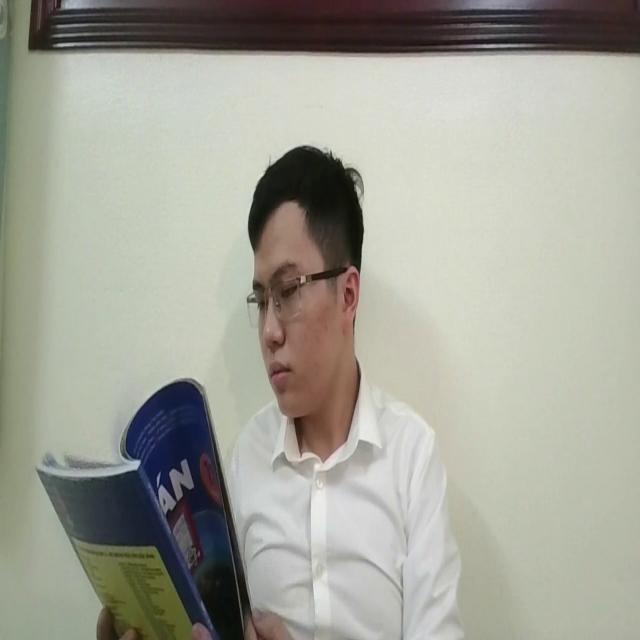book: (34, 373, 254, 640)
student: (226, 132, 459, 640)
